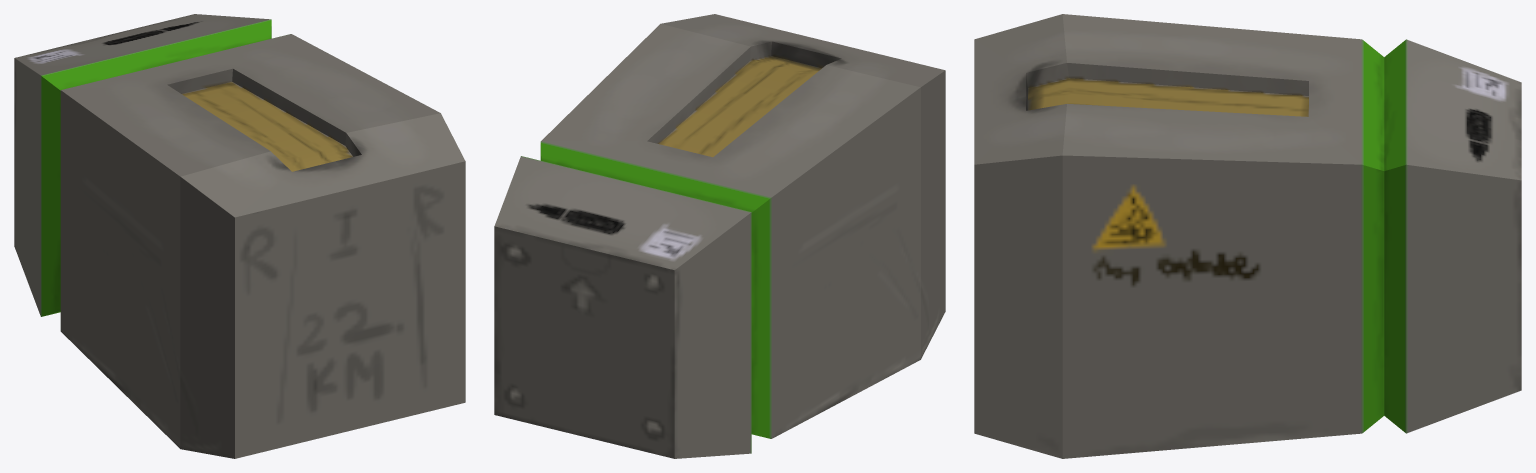
The model's file is ammo_rifle.fbx.
3 renders of one model, left to right at view 1: azimuth 30°, elevation 25°; view 2: azimuth 150°, elevation 25°; view 3: azimuth 270°, elevation 25°, orthographic. The views are drawn at different scales.
Visible parts, largest first — view 1: ammo_Rifle; view 2: ammo_Rifle; view 3: ammo_Rifle.
Part boxes in pixels (x1,y1,x2,y2): ammo_Rifle: [14, 14, 465, 458]; ammo_Rifle: [494, 14, 945, 458]; ammo_Rifle: [974, 14, 1521, 458].
Size of the model in its own units: 0.2699 by 0.2712 by 0.4409.
Materials: 1 (1 with a texture image).
